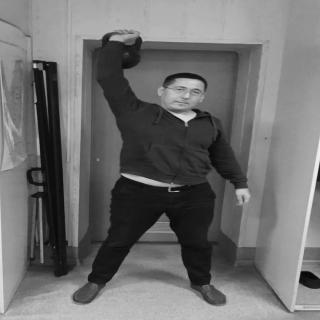kettlebell: (99, 33, 146, 71)
